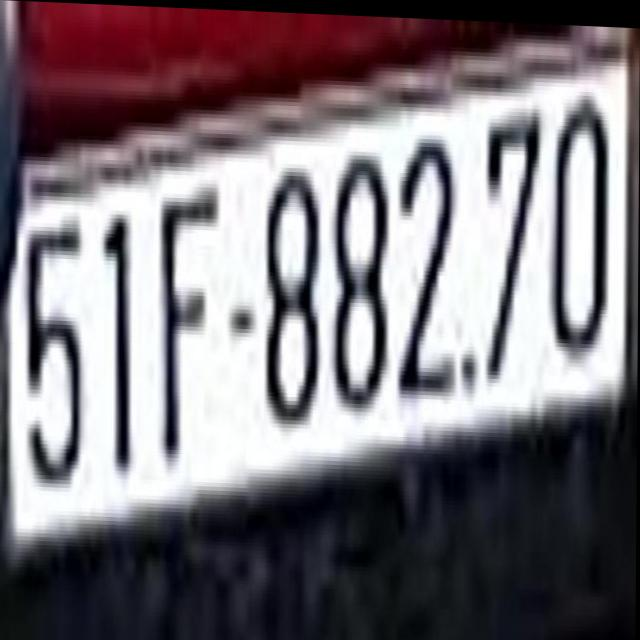0: (550, 81, 610, 363)
1: (103, 166, 141, 466)
2: (395, 111, 451, 400), (481, 94, 536, 383)
5: (25, 198, 86, 504)
8: (265, 137, 320, 430), (334, 147, 385, 425)
F: (158, 153, 215, 469)
